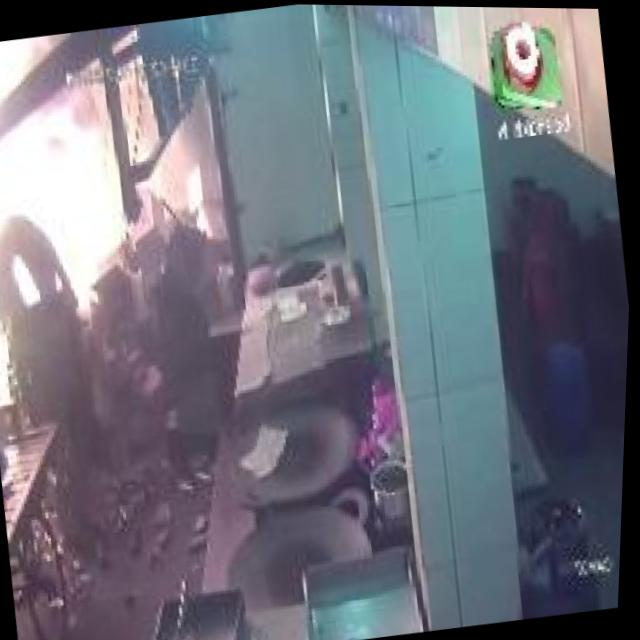fire: (0, 28, 166, 403)
